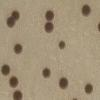brown: (78, 3, 92, 19), (12, 40, 25, 56), (57, 75, 70, 90), (7, 74, 19, 89), (82, 81, 94, 96), (4, 16, 17, 29), (11, 88, 24, 100), (0, 63, 11, 77), (41, 65, 52, 79), (11, 8, 22, 21), (45, 9, 55, 22), (44, 21, 54, 34), (57, 38, 66, 51), (94, 19, 100, 35), (71, 96, 79, 100)
